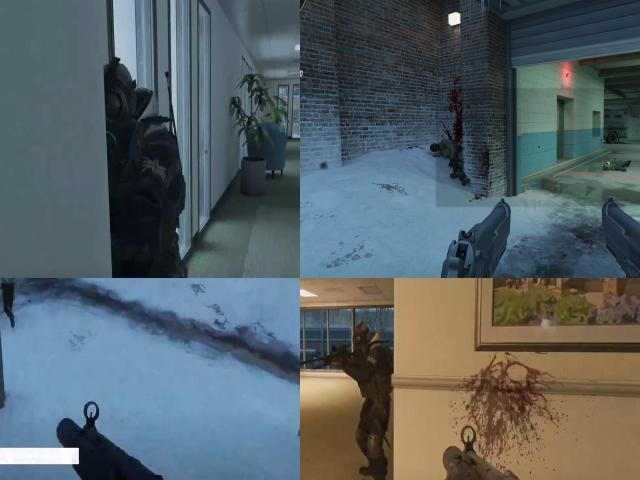CT: (348, 330, 396, 419)
CT-Head: (92, 62, 146, 148), (349, 317, 382, 365)
Dead: (430, 135, 476, 191), (600, 156, 636, 172)
T: (1, 278, 17, 290)
